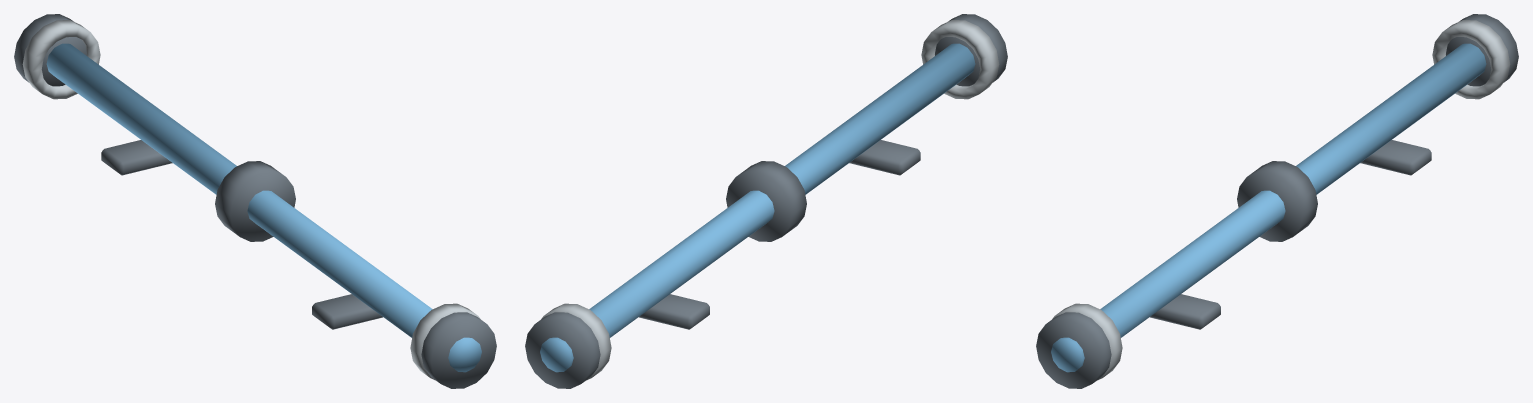
File: fiber_run_standard.glb
The picture shows the model from 3 angles, left to right: view 1: azimuth 30°, elevation 25°; view 2: azimuth 150°, elevation 25°; view 3: azimuth 330°, elevation 25°; orthographic projection.
Visible parts, largest first — view 1: Conduit_blue, Coupler_dark, Flange_steel, SupportBracket_dark; view 2: Conduit_blue, Coupler_dark, Flange_steel, SupportBracket_dark; view 3: Conduit_blue, Coupler_dark, Flange_steel, SupportBracket_dark.
Part boxes in pixels (bbox=[...]): Conduit_blue: bbox=[46, 43, 481, 372]; Coupler_dark: bbox=[14, 14, 496, 388]; Flange_steel: bbox=[22, 20, 480, 380]; SupportBracket_dark: bbox=[101, 140, 382, 329]; Conduit_blue: bbox=[540, 43, 975, 372]; Coupler_dark: bbox=[525, 14, 1007, 388]; Flange_steel: bbox=[541, 20, 999, 380]; SupportBracket_dark: bbox=[639, 140, 920, 329]; Conduit_blue: bbox=[1051, 43, 1486, 372]; Coupler_dark: bbox=[1036, 14, 1518, 388]; Flange_steel: bbox=[1052, 20, 1510, 380]; SupportBracket_dark: bbox=[1150, 140, 1431, 329].
Bounding box in the file's own units: 0.33 × 0.2805 × 3.
